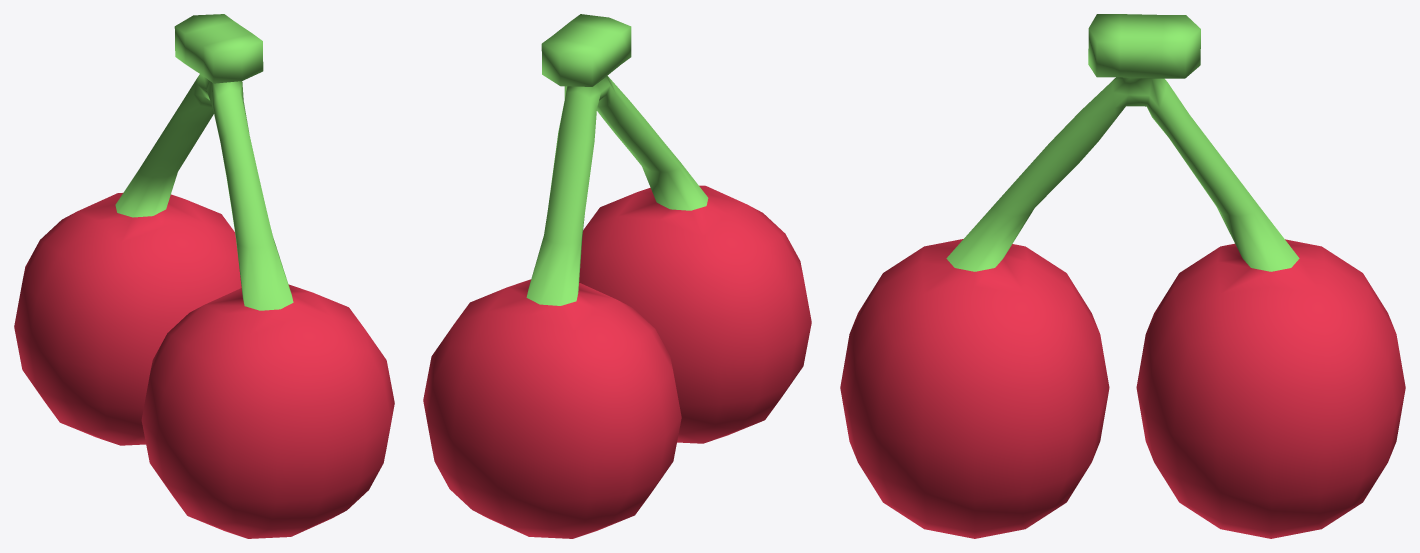
The model's file is Asset_09_cereza.fbx.
The picture shows the model from 3 angles, left to right: view 1: azimuth 30°, elevation 25°; view 2: azimuth 150°, elevation 25°; view 3: azimuth 270°, elevation 25°; orthographic projection. The views are drawn at different scales.
Visible parts, largest first — view 1: Cube; view 2: Cube; view 3: Cube.
Boxes of the visible parts, left/top/right/bottom form: Cube: left=14, top=14, right=394, bottom=538; Cube: left=423, top=14, right=811, bottom=538; Cube: left=840, top=14, right=1405, bottom=538.
Bounding box in the file's own units: 195 × 366 × 369.
